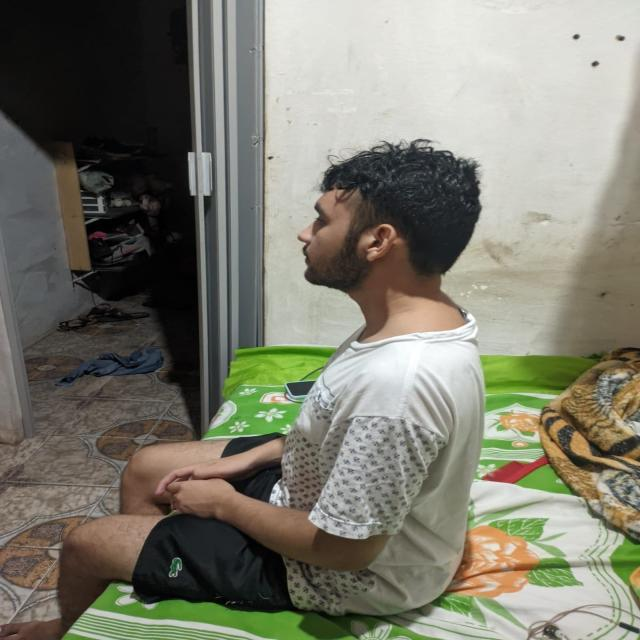sentado: (61, 141, 540, 636)
